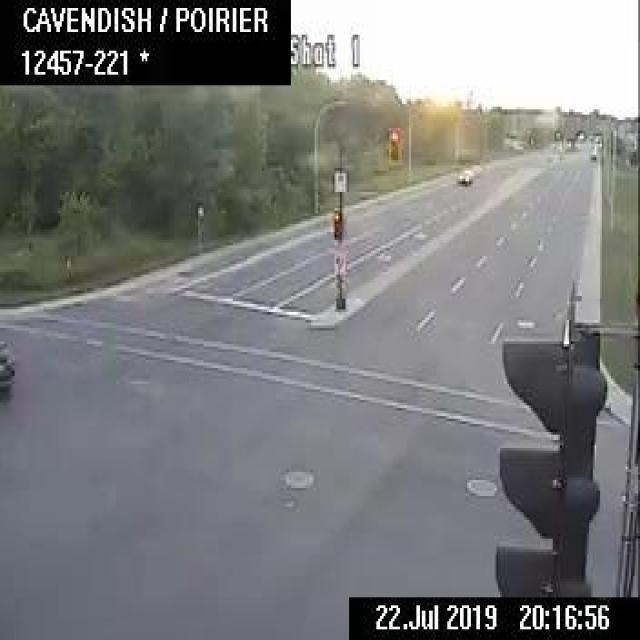vehicle: (0, 336, 15, 392), (454, 168, 472, 182)
